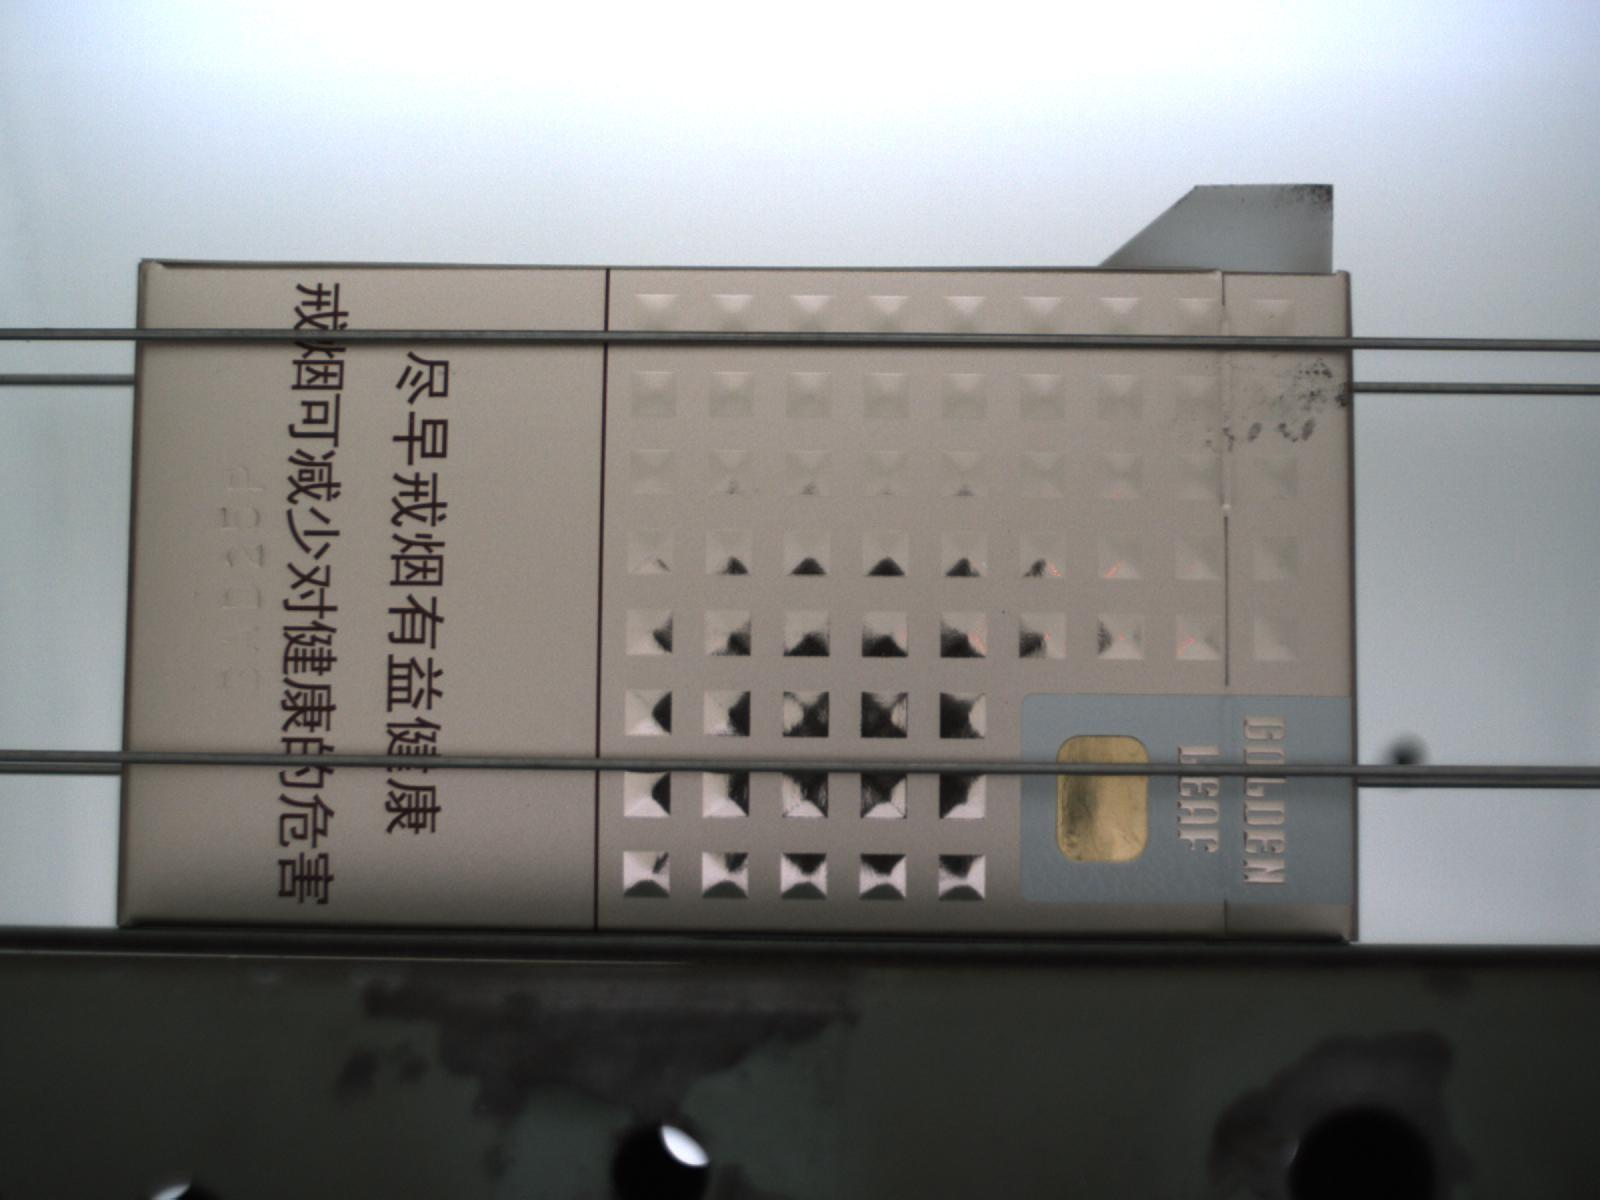dirtyScratch: (215, 461, 269, 698)
gumDirt: (1199, 356, 1352, 453)
headUpwarp_upper_01: (1092, 177, 1345, 278)
